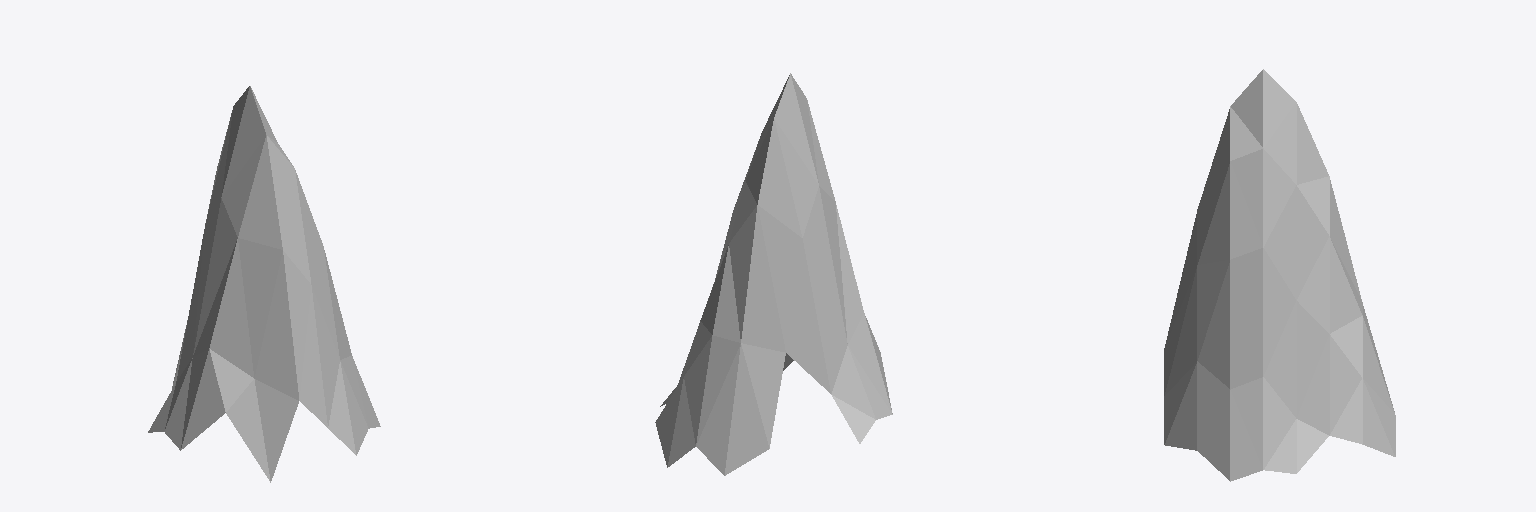
The model's file is tree_24.obj.
3 renders of one model, left to right at view 1: azimuth 30°, elevation 25°; view 2: azimuth 150°, elevation 25°; view 3: azimuth 270°, elevation 25°, orthographic.
Visible parts, largest first — view 1: tree_24.001; view 2: tree_24.001; view 3: tree_24.001.
Boxes of the visible parts, box(x1,y1,x2,y2) form: tree_24.001: box(148, 86, 380, 482); tree_24.001: box(655, 73, 892, 475); tree_24.001: box(1164, 69, 1395, 481).
Size of the model in its own units: 7 by 12.07 by 7.